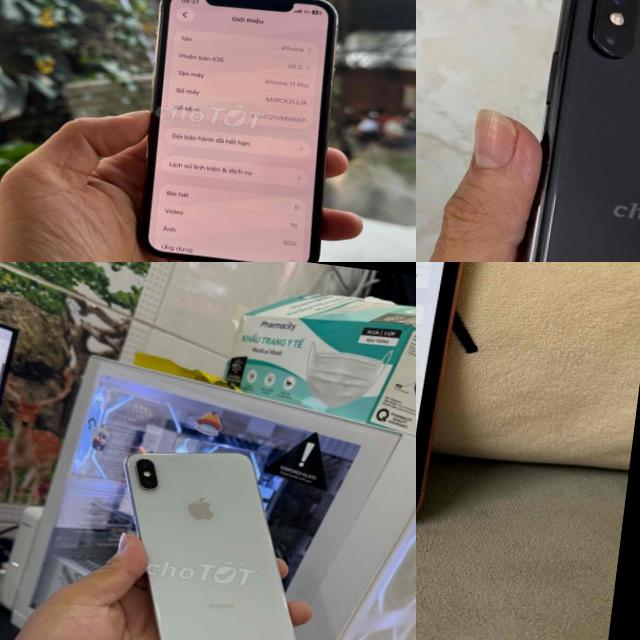gen_11: (127, 0, 355, 262)
gen_x_xs: (68, 429, 339, 640), (476, 0, 640, 262), (416, 262, 489, 537)
